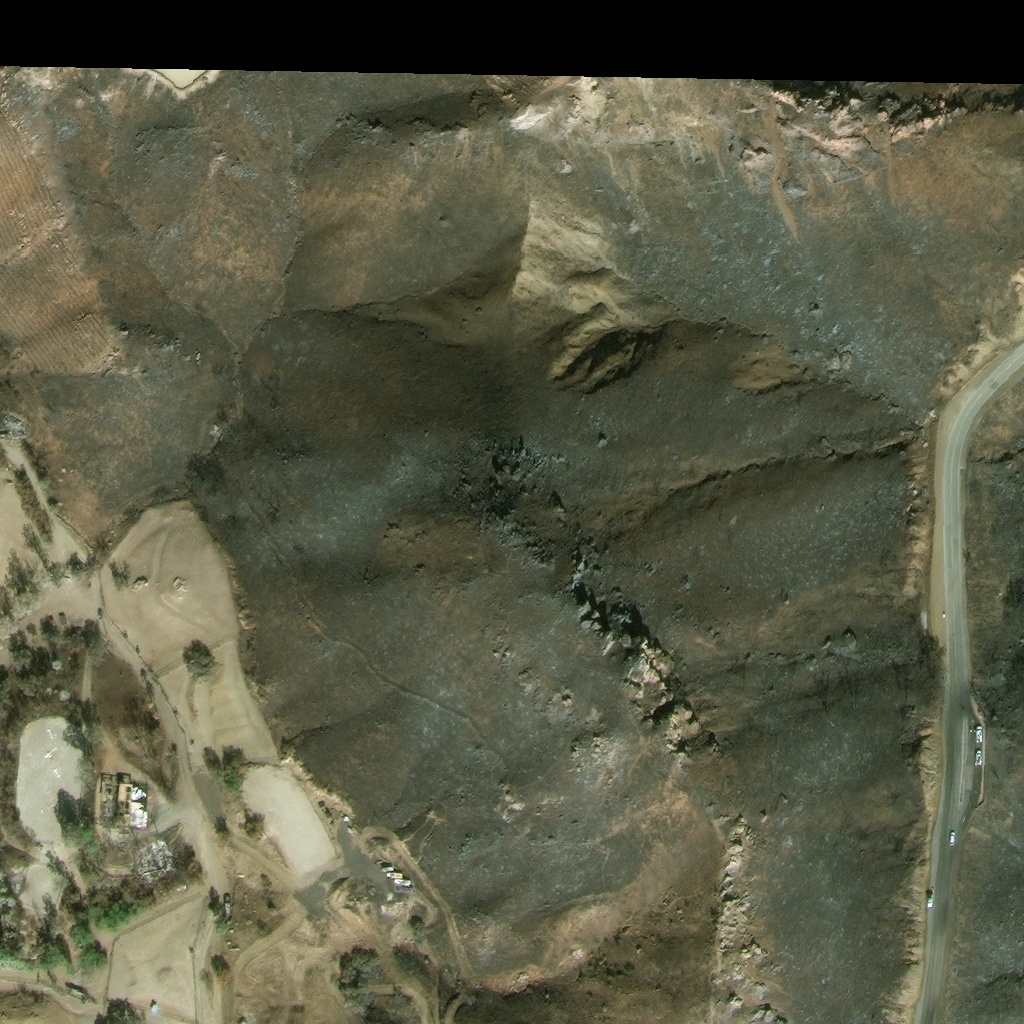0 no-damage: (147, 1002, 157, 1013)
2 major-damage: (96, 779, 147, 826)
3 destroyed: (137, 844, 166, 868), (167, 836, 186, 856), (9, 425, 26, 437), (10, 876, 21, 891)
